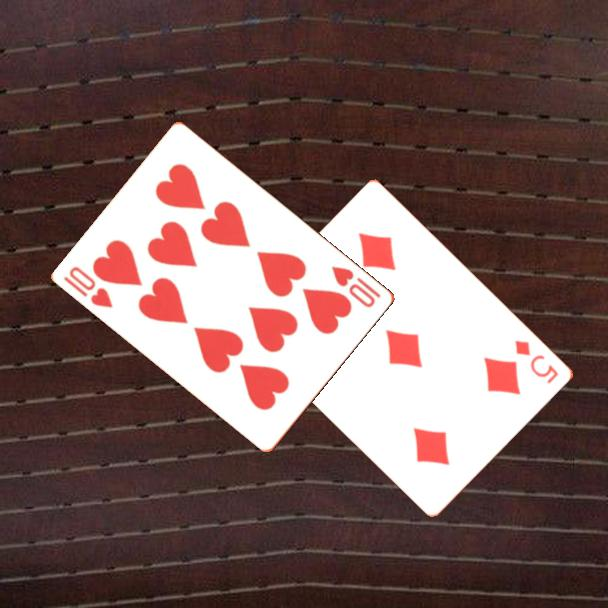d05: (511, 336, 562, 387)
h10: (328, 262, 384, 311), (60, 263, 116, 311)
